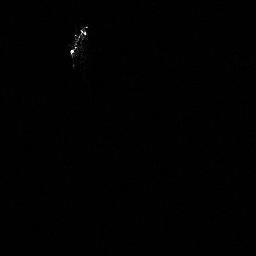ship: (69, 25, 90, 70)
